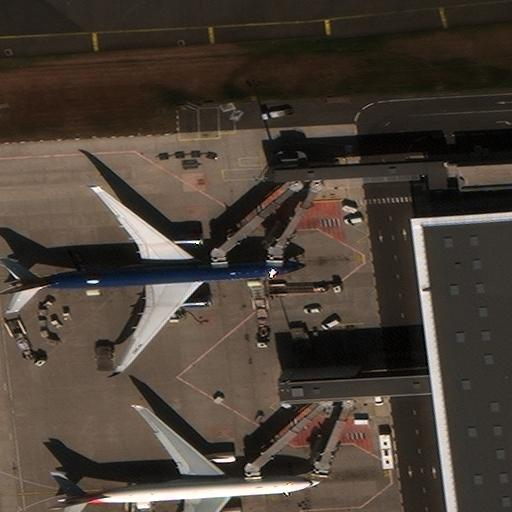Large Civil Transport: (0, 185, 304, 372), (56, 405, 319, 511)
